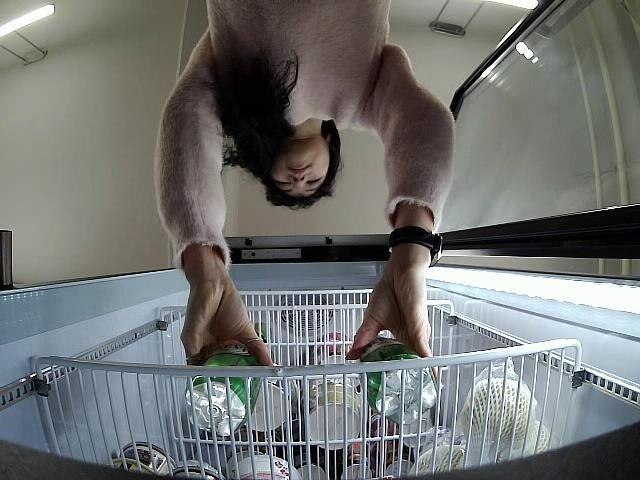18_trevi: (184, 340, 259, 435), (360, 339, 440, 428)
